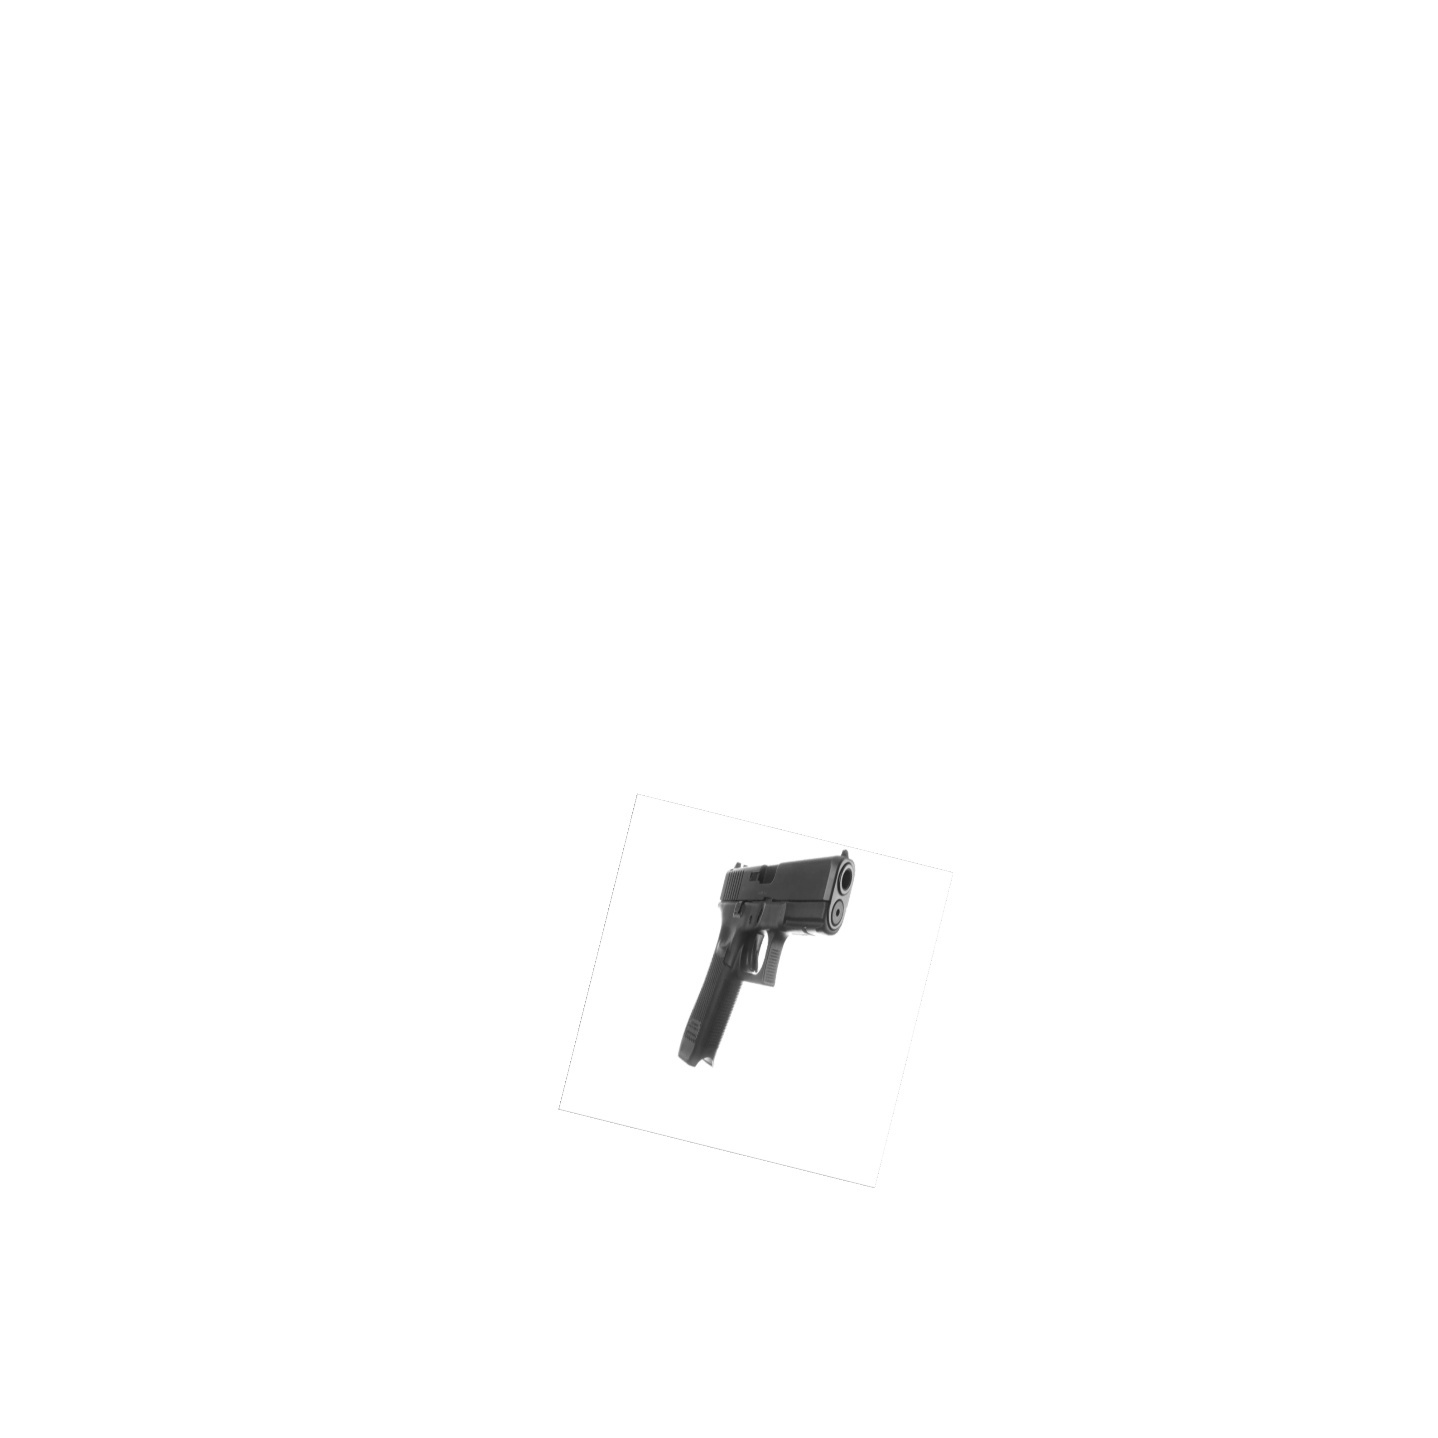gun: (676, 845, 865, 1078)
